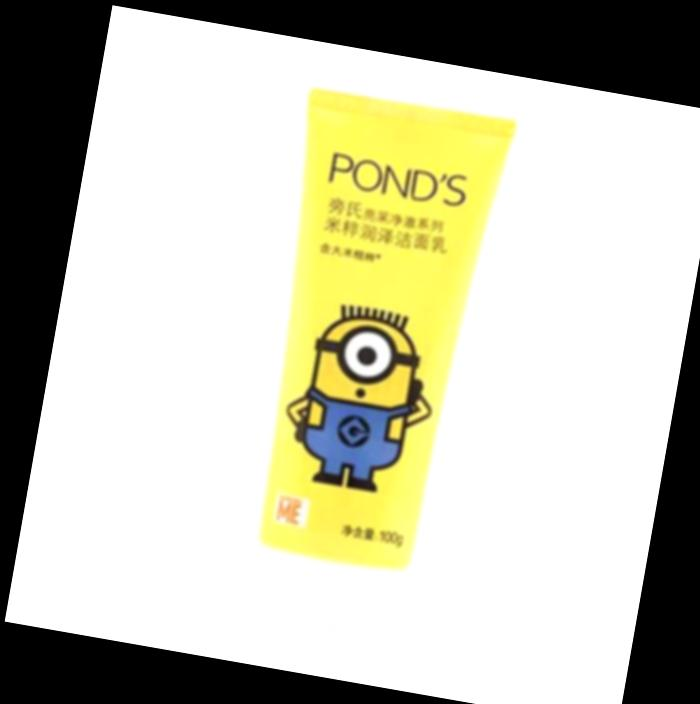cosmetic: (209, 85, 521, 669)
